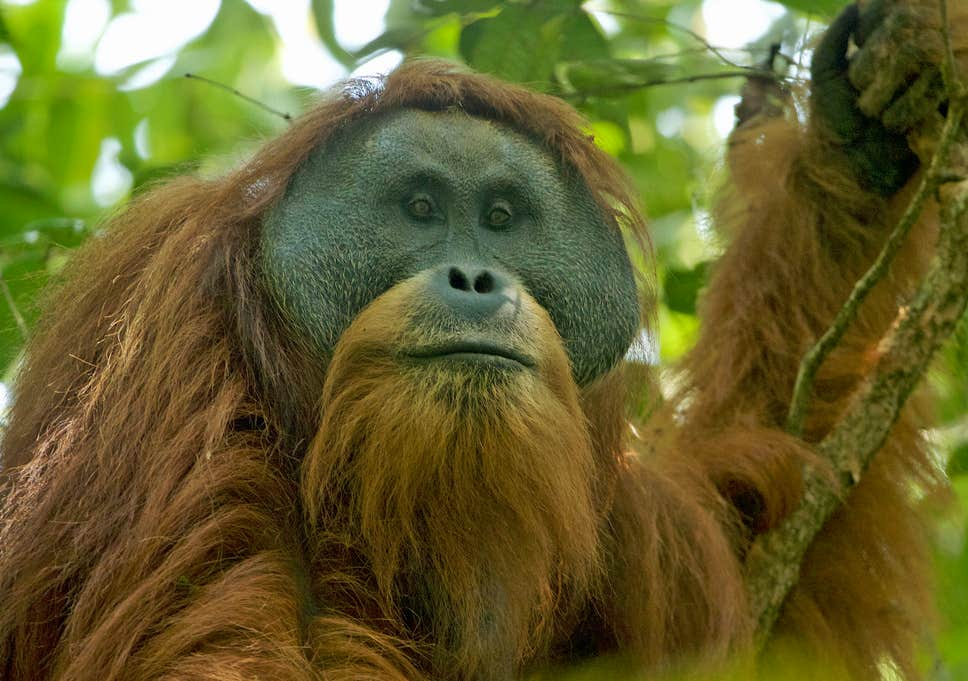Orangutan: (55, 69, 818, 642)
